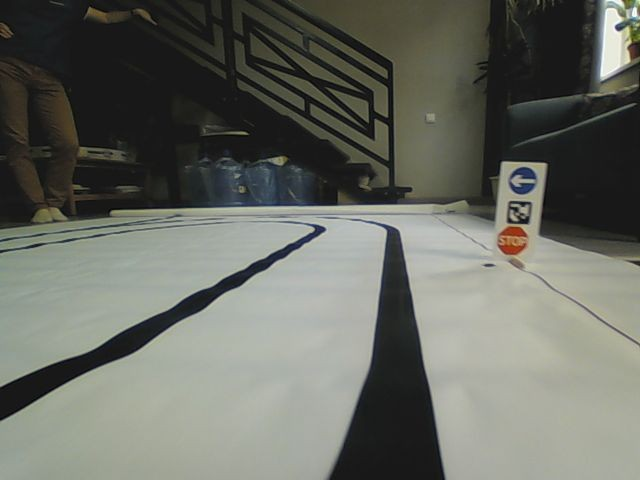Stop: (496, 224, 528, 254)
